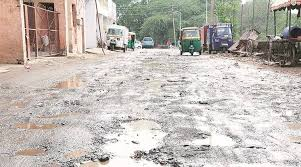pothole: (95, 116, 180, 166), (189, 120, 301, 150), (6, 90, 82, 132), (251, 67, 299, 118), (197, 71, 245, 119), (94, 66, 145, 107), (150, 74, 190, 115), (186, 152, 301, 166), (147, 52, 186, 74), (54, 70, 89, 89), (12, 143, 51, 158), (62, 150, 93, 167)
